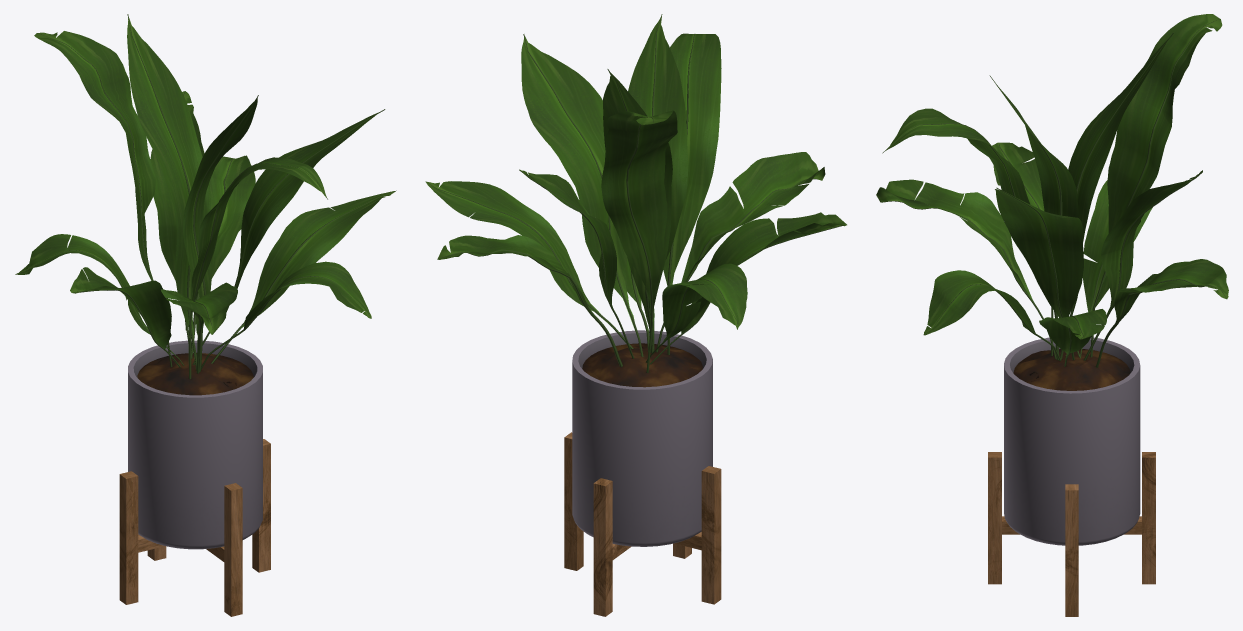
File: Pottery.fbx
The picture shows the model from 3 angles, left to right: view 1: azimuth 30°, elevation 25°; view 2: azimuth 150°, elevation 25°; view 3: azimuth 270°, elevation 25°; orthographic projection. The views are drawn at different scales.
Visible parts, largest first — view 1: Pot, Leaf_006, Wood_Support, Leaf_005, Leaf_010, Leaf_012, Leaf_004, Leaf_011, Leaf_001, Leaf_008, Leaf_009, Leaf_007 (+6 smaller); view 2: Pot, Leaf_012, Leaf_005, Wood_Support, Leaf_001, Leaf_003, Leaf_004, Leaf_010, Leaf_007, Leaf_008, Leaf_006, Leaf_011 (+4 smaller); view 3: Pot, Leaf_005, Leaf_012, Wood_Support, Leaf_003, Leaf_006, Leaf_009, Leaf_001, Leaf_002, Leaf_011, Leaf_004, Leaf_007 (+3 smaller).
Part boxes in pixels (x1,y1,x2,y2): Pot: [128, 340, 262, 549]; Leaf_006: [127, 17, 208, 362]; Wood_Support: [119, 439, 270, 616]; Leaf_005: [34, 31, 155, 280]; Leaf_010: [223, 191, 395, 348]; Leaf_012: [234, 111, 381, 288]; Leaf_004: [183, 98, 257, 297]; Leaf_011: [195, 155, 255, 300]; Leaf_001: [188, 157, 326, 337]; Leaf_008: [70, 267, 172, 357]; Leaf_009: [230, 261, 371, 339]; Leaf_007: [15, 234, 172, 353]; Pot: [572, 330, 712, 546]; Leaf_012: [521, 36, 635, 330]; Leaf_005: [601, 110, 677, 314]; Wood_Support: [564, 432, 721, 616]; Leaf_001: [663, 33, 721, 285]; Leaf_003: [681, 152, 825, 282]; Leaf_004: [628, 16, 688, 338]; Leaf_010: [426, 181, 620, 333]; Leaf_007: [656, 263, 747, 350]; Leaf_008: [674, 212, 846, 340]; Leaf_006: [603, 72, 672, 345]; Leaf_011: [437, 235, 598, 320]; Pot: [1004, 337, 1140, 545]; Leaf_005: [1099, 14, 1222, 294]; Leaf_012: [995, 189, 1083, 317]; Wood_Support: [988, 452, 1155, 616]; Leaf_003: [876, 179, 1042, 318]; Leaf_006: [1068, 37, 1170, 315]; Leaf_009: [923, 270, 1036, 335]; Leaf_001: [885, 108, 1052, 311]; Leaf_002: [1100, 170, 1202, 315]; Leaf_011: [1108, 259, 1228, 333]; Leaf_004: [995, 83, 1078, 217]; Leaf_007: [1082, 180, 1152, 311].
Size of the model in its own units: 561 by 787 by 465.
Materials: 6 (5 with a texture image).
